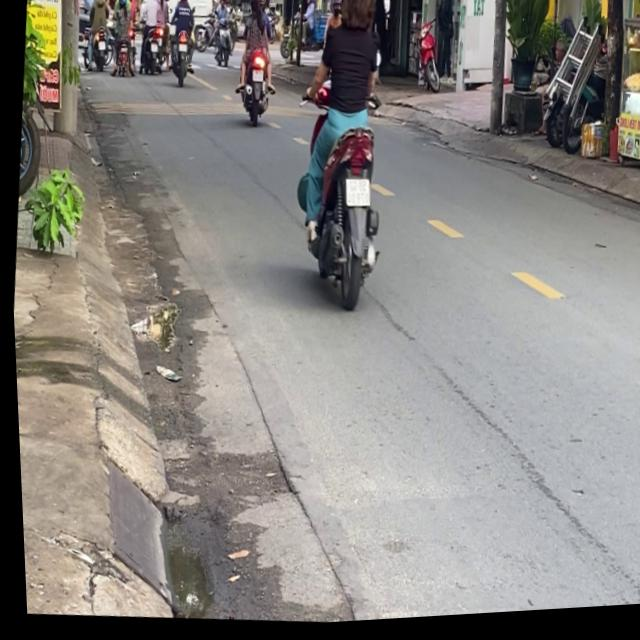licenseplate: (278, 0, 405, 314)
motorcyclist: (339, 0, 375, 35)
nohelmet: (343, 180, 370, 210)
